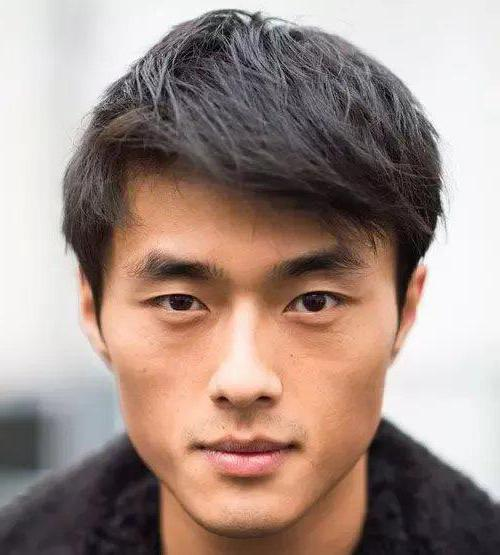Sober: (94, 192, 383, 505)
